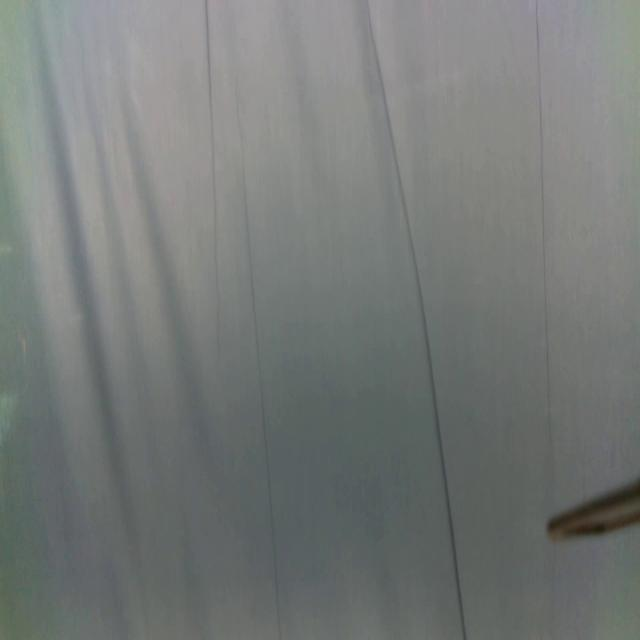crease: (368, 0, 467, 640), (234, 75, 282, 640), (534, 0, 553, 434), (204, 0, 222, 369)
